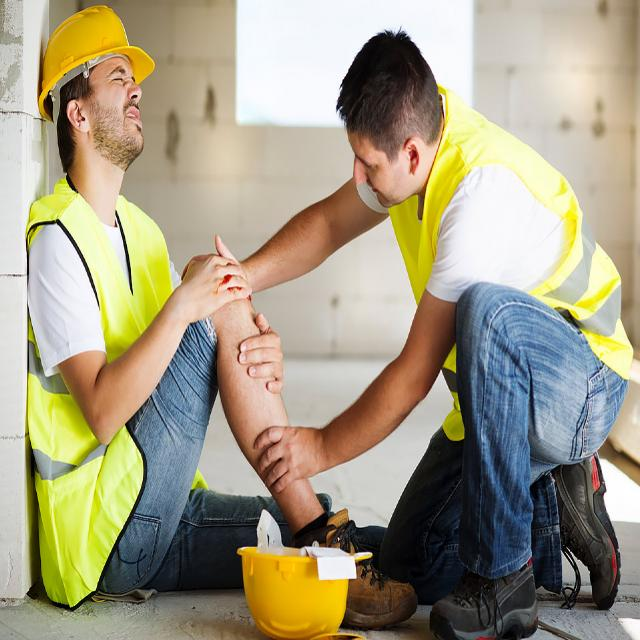Reflective-Jacket: (414, 107, 630, 417), (25, 176, 174, 606)
Safety-Helmet: (34, 1, 158, 111)
